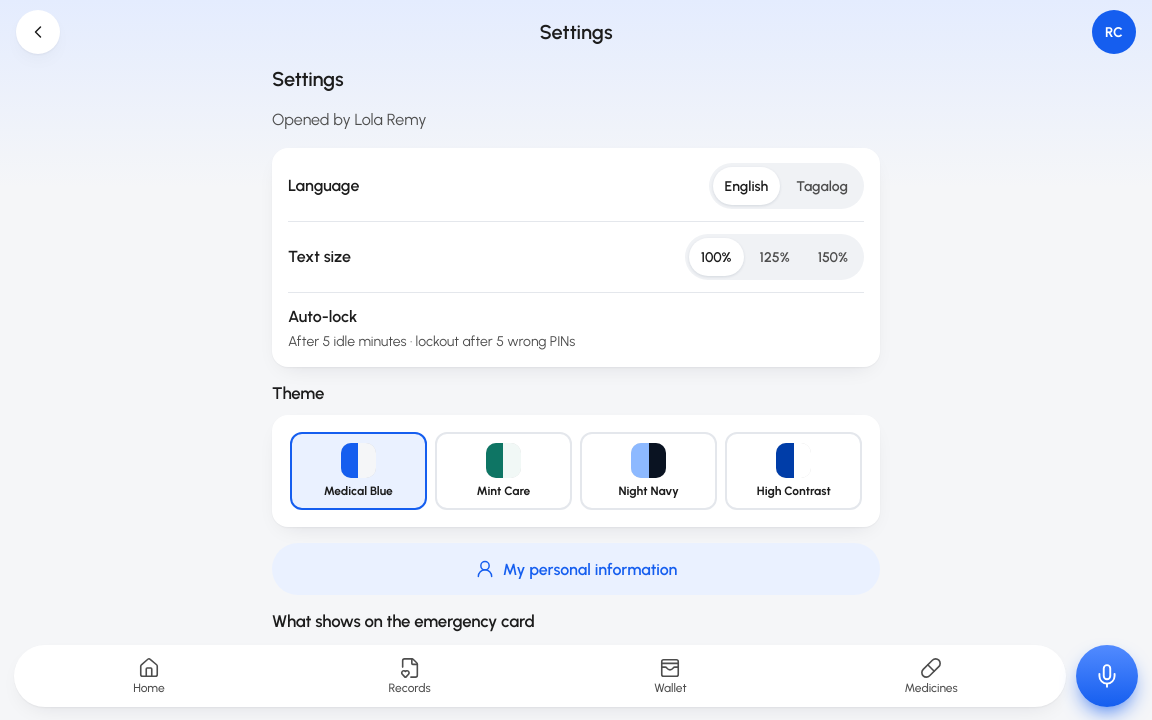
Test: settings › switching language re-renders in Tagalog without a reload and saves it to the profile
Expected: the element named "Text size" is shown, [685,234,864,280]
Click the button "Tagalog".
click(822, 186)  # box [784,167,860,205]
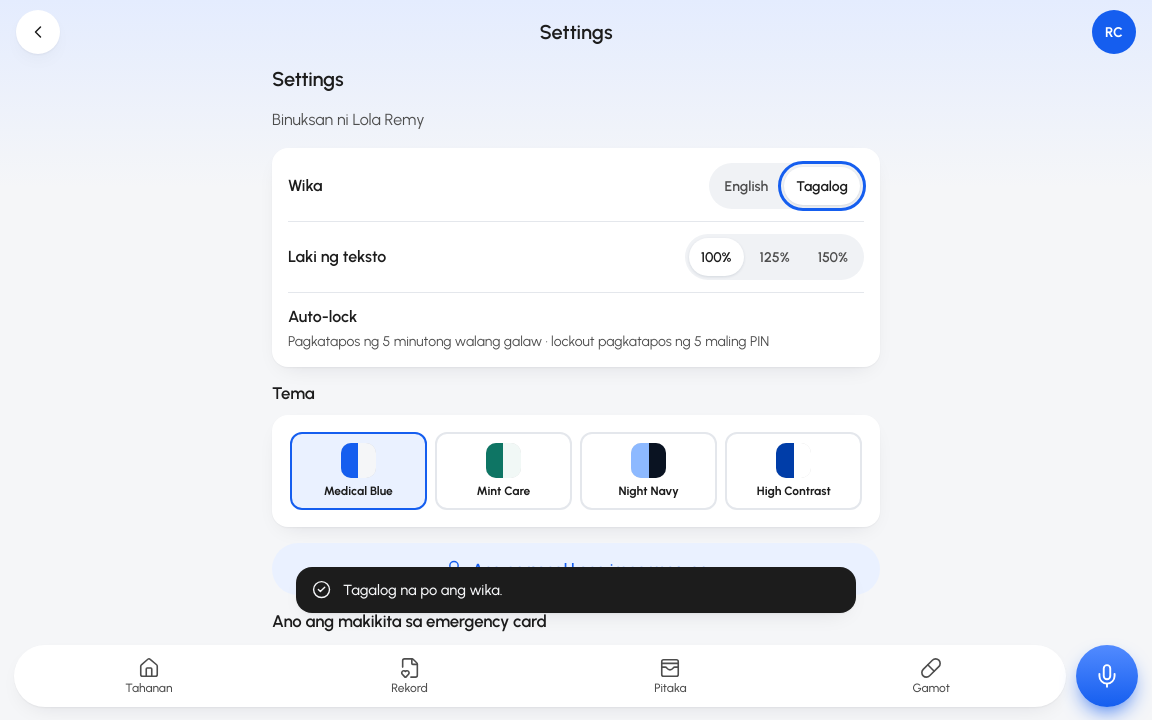
Expected: the element named "Laki ng sulat" is shown, [685,234,864,280]
Expected: the text "Text size" is gone
Expected: the text "Tagalog na po ang wika." is shown, [343,581,503,599]
